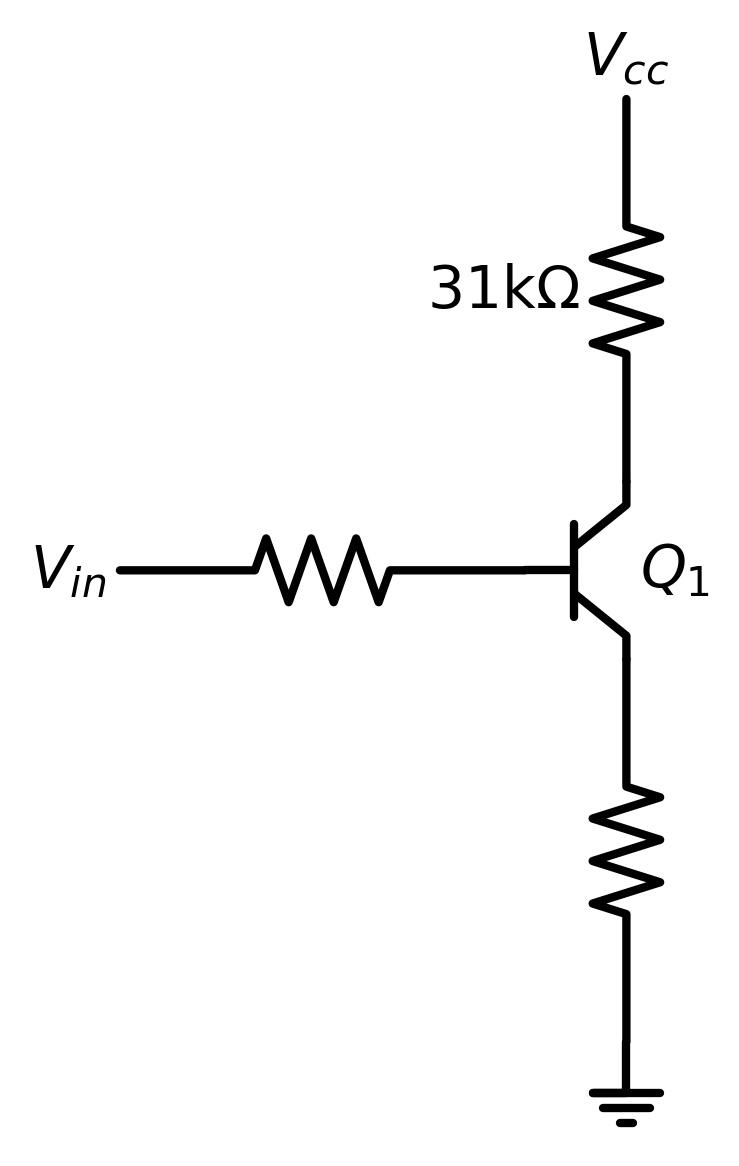bjt: (549, 462, 644, 670)
ground: (575, 1055, 683, 1149)
resistor: (230, 508, 411, 619), (580, 757, 674, 938), (579, 203, 677, 374)
